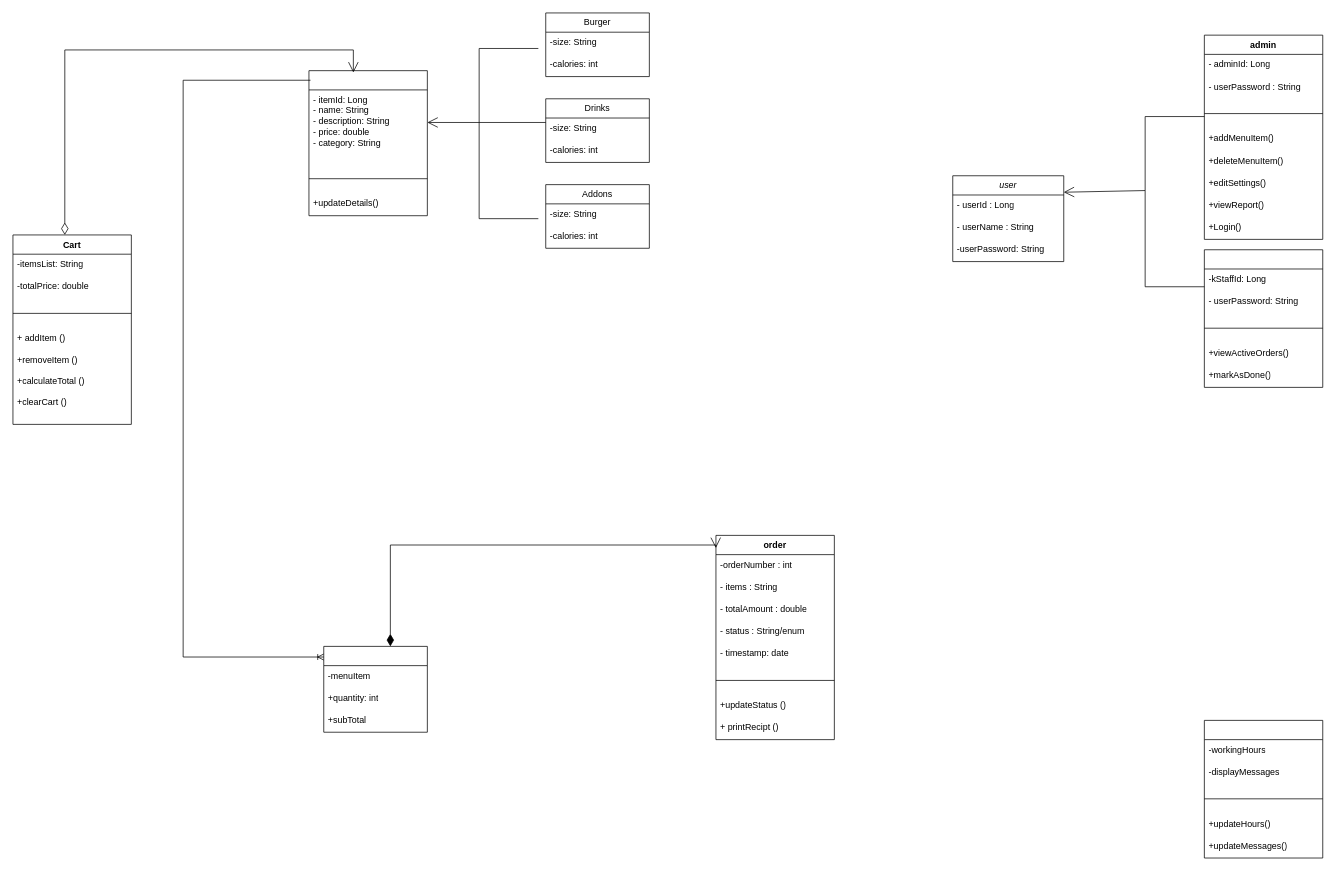
Some shapes in this 1336 by 873 pixel diagram are drawn without their labels. The box of each missing label's shape, as (x1, y1, x2, y2) in pixels:
kitchenStaff: (1204, 249, 1323, 387)
menuItem: (308, 70, 427, 216)
orderItem: (323, 646, 427, 732)
restaurantConfig: (1204, 720, 1323, 858)
